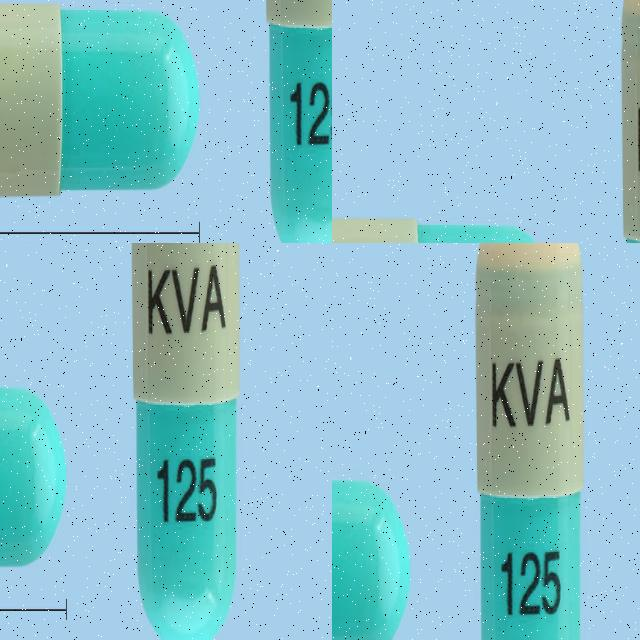Ilsung Clarithromycin: (526, 0, 640, 202), (332, 167, 538, 243)
Samsung Clarithromycin Tab-500mg: (23, 243, 319, 376)
Uniciprosacin Tab: (0, 0, 213, 200)
Vancozin Cap-250mg: (474, 243, 586, 640), (332, 468, 411, 640)
